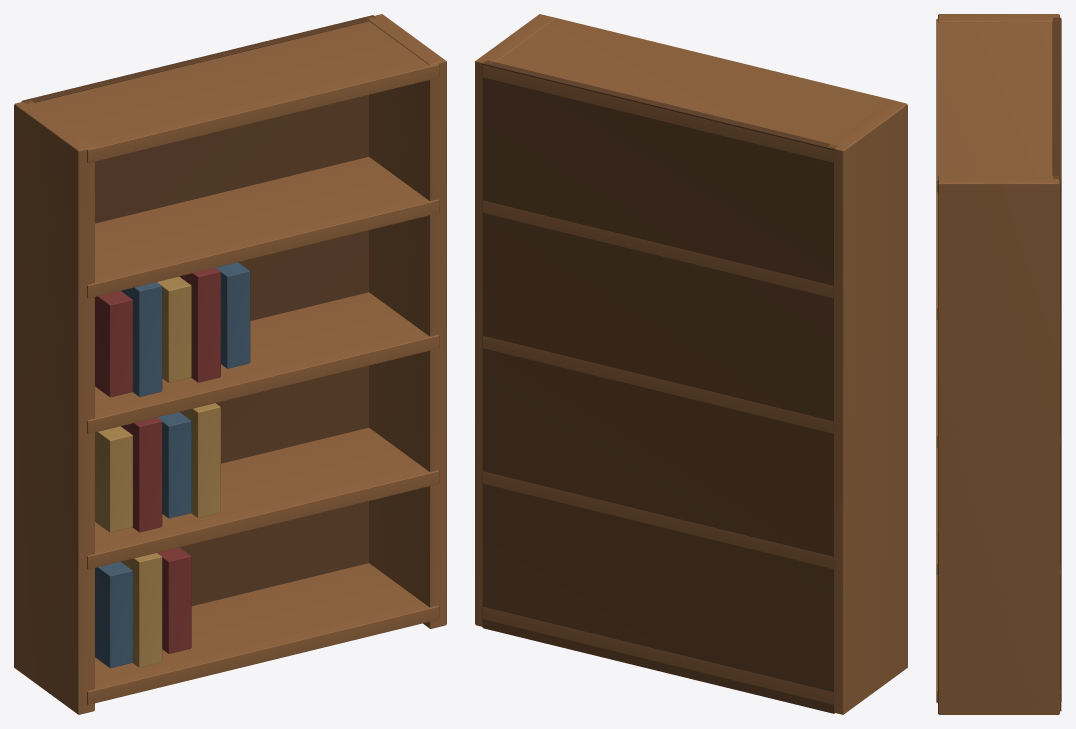
Rendered from S036_open_bookshelf_rebuilt.glb.
The picture shows the model from 3 angles, left to right: view 1: azimuth 30°, elevation 25°; view 2: azimuth 150°, elevation 25°; view 3: azimuth 270°, elevation 25°; orthographic projection. The views are drawn at different scales.
Visible parts, largest first — view 1: Oiled_warm_oak, Oak_end_and_edge, Book_cloth_ochre, Burgundy_upholstery, Book_cloth_blue; view 2: Oak_end_and_edge, Oiled_warm_oak; view 3: Oiled_warm_oak, Oak_end_and_edge.
Part boxes in pixels (<box>): Oiled_warm_oak: <box>14,14,446,714</box>; Oak_end_and_edge: <box>21,15,376,606</box>; Book_cloth_ochre: <box>95,276,220,667</box>; Burgundy_upholstery: <box>95,267,220,653</box>; Book_cloth_blue: <box>95,262,250,668</box>; Oak_end_and_edge: <box>482,60,837,713</box>; Oiled_warm_oak: <box>475,14,907,714</box>; Oiled_warm_oak: <box>936,14,1061,714</box>; Oak_end_and_edge: <box>1052,17,1061,711</box>.
Bounding box in the file's own units: 1.3 × 1.9 × 0.405.
